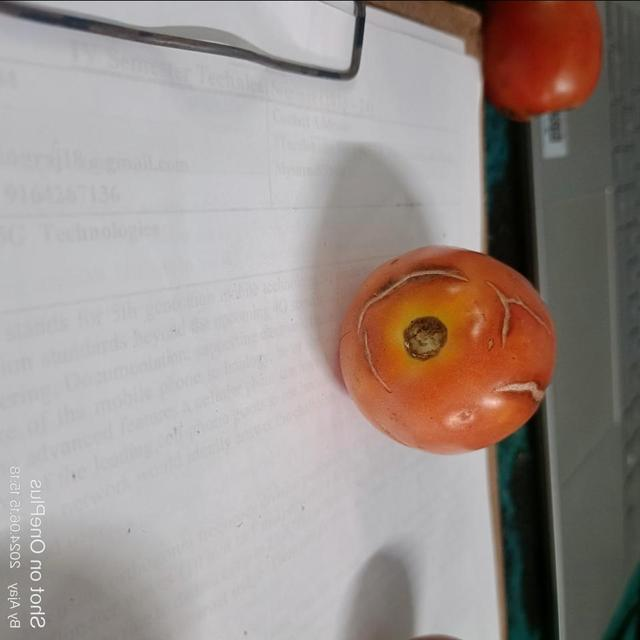Cracking Fruit: (242, 186, 367, 221)
